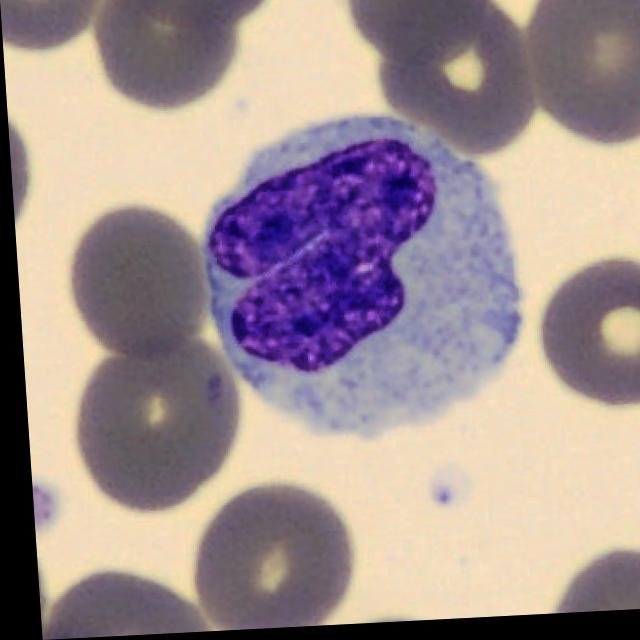Monocito: (200, 119, 516, 440)
